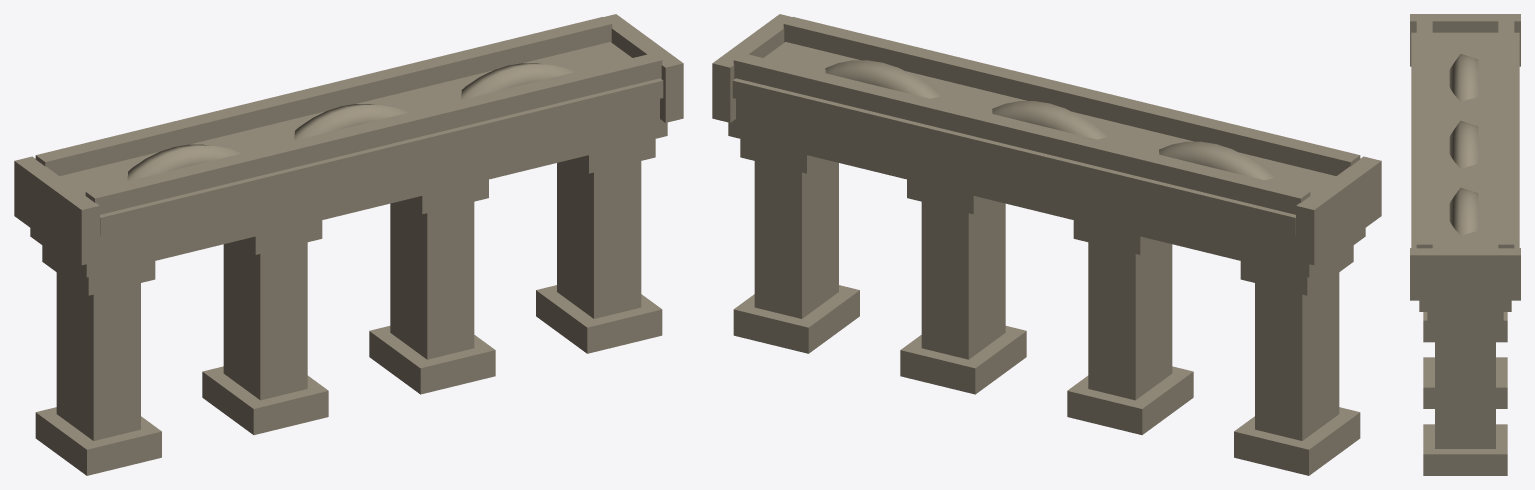
The model's file is Aqueduct.glb.
3 views of the same model, side by side, from view 1: azimuth 30°, elevation 25°; view 2: azimuth 150°, elevation 25°; view 3: azimuth 270°, elevation 25° (orthographic). The views are drawn at different scales.
Visible parts, largest first — view 1: hand-pump-static-aqueduct-warm-limestone-mat; view 2: hand-pump-static-aqueduct-warm-limestone-mat; view 3: hand-pump-static-aqueduct-warm-limestone-mat.
Boxes of the visible parts, box(x1,y1,x2,y2) form: hand-pump-static-aqueduct-warm-limestone-mat: box(14, 14, 683, 475); hand-pump-static-aqueduct-warm-limestone-mat: box(712, 14, 1381, 475); hand-pump-static-aqueduct-warm-limestone-mat: box(1410, 14, 1520, 475).
Bounding box in the file's own units: 4.33 × 1.93 × 0.84.
